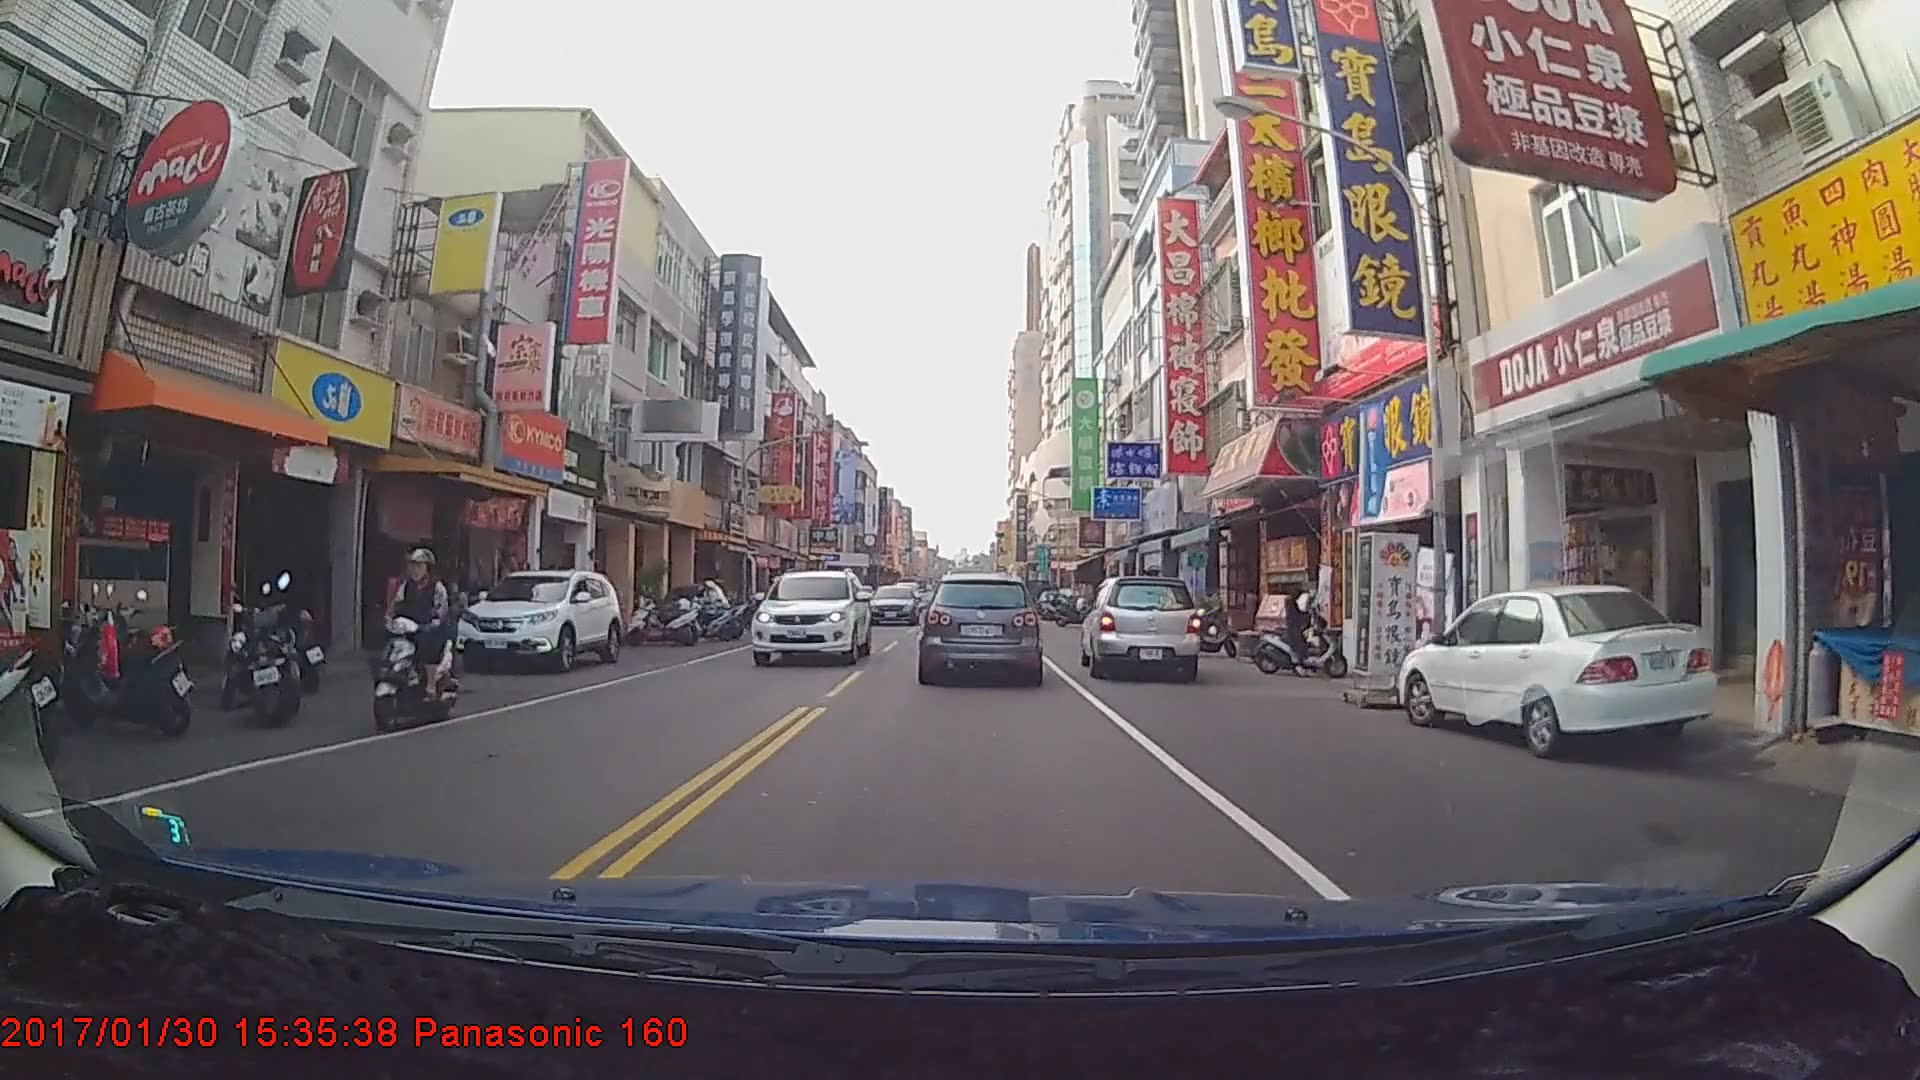rider: (369, 550, 462, 736), (1250, 577, 1354, 682)
vehicle: (1397, 587, 1721, 752), (452, 568, 620, 673), (921, 571, 1042, 683), (1080, 574, 1199, 683), (753, 565, 872, 665), (864, 583, 919, 625)
